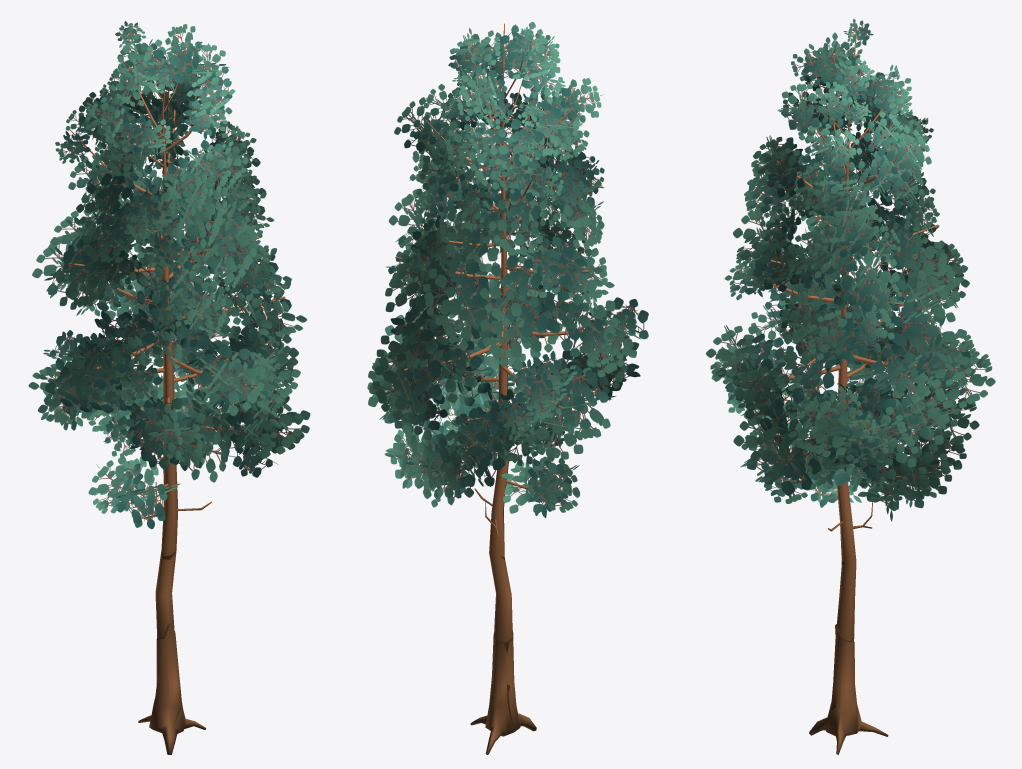
The model's file is tree_toon_2.glb.
3 renders of one model, left to right at view 1: azimuth 30°, elevation 25°; view 2: azimuth 150°, elevation 25°; view 3: azimuth 270°, elevation 25°, orthographic. The views are drawn at different scales.
Visible parts, largest first — view 1: TFF_Aspen_Tree_01A_LOD0; view 2: TFF_Aspen_Tree_01A_LOD0; view 3: TFF_Aspen_Tree_01A_LOD0.
Part boxes in pixels (left/top/right/bottom): TFF_Aspen_Tree_01A_LOD0: left=28, top=21, right=310, bottom=754; TFF_Aspen_Tree_01A_LOD0: left=367, top=21, right=648, bottom=754; TFF_Aspen_Tree_01A_LOD0: left=706, top=19, right=995, bottom=754.
Bounding box in the file's own units: 6.42 × 17.09 × 6.84.
Materials: 2 (2 with a texture image).
